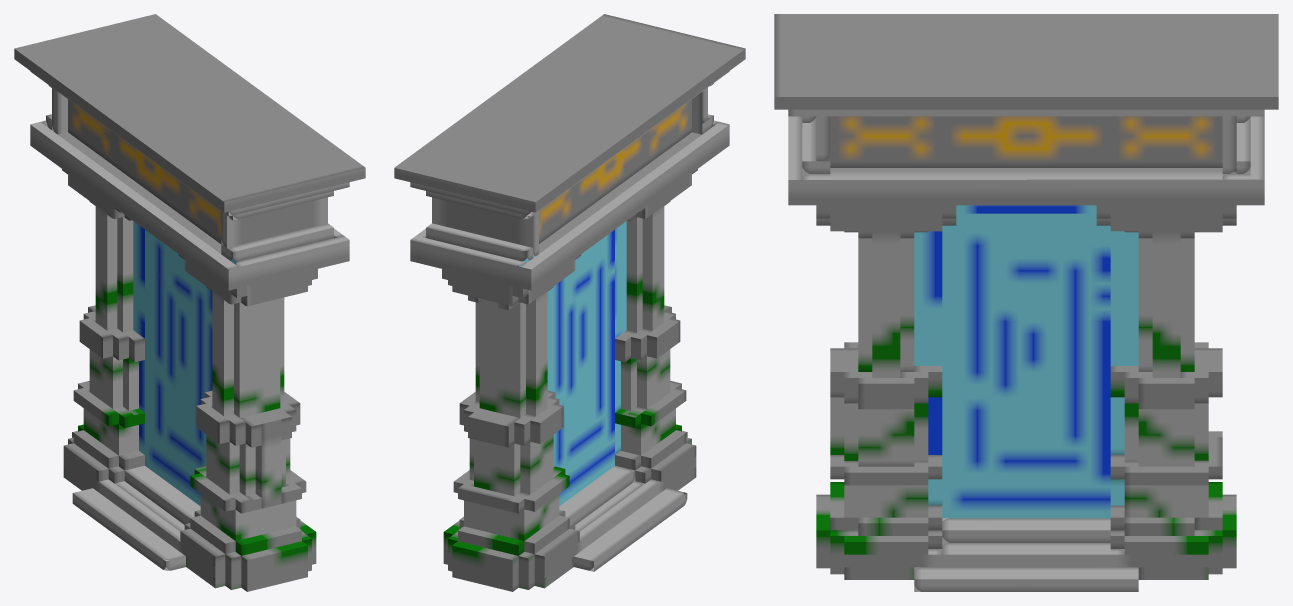
Rendered from portalValhalla.dae.
3 renders of one model, left to right at view 1: azimuth 30°, elevation 25°; view 2: azimuth 150°, elevation 25°; view 3: azimuth 270°, elevation 25°, orthographic. The views are drawn at different scales.
Visible parts, largest first — view 1: Node-local; view 2: Node-local; view 3: Node-local.
Part boxes in pixels (box(x1,y1,x2,y2)): Node-local: box(14, 14, 365, 591); Node-local: box(394, 14, 745, 591); Node-local: box(774, 14, 1278, 591).
Size of the model in its own units: 14 by 39 by 36.
